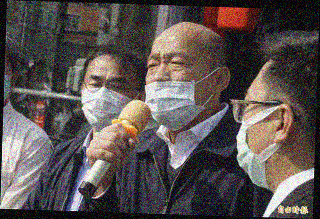mask_weared_incorrect: (145, 47, 218, 133)
with_mask: (228, 85, 281, 191), (80, 71, 142, 133)
